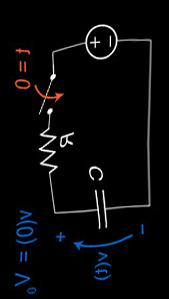Battery: (68, 16, 126, 68)
